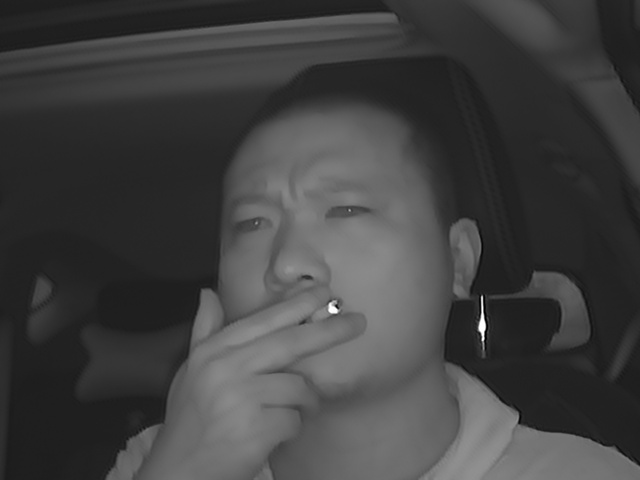hand: (209, 281, 369, 448)
